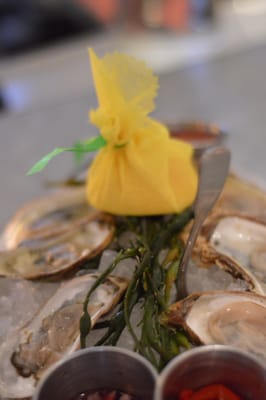sushi: (34, 346, 158, 400), (156, 344, 266, 400)
